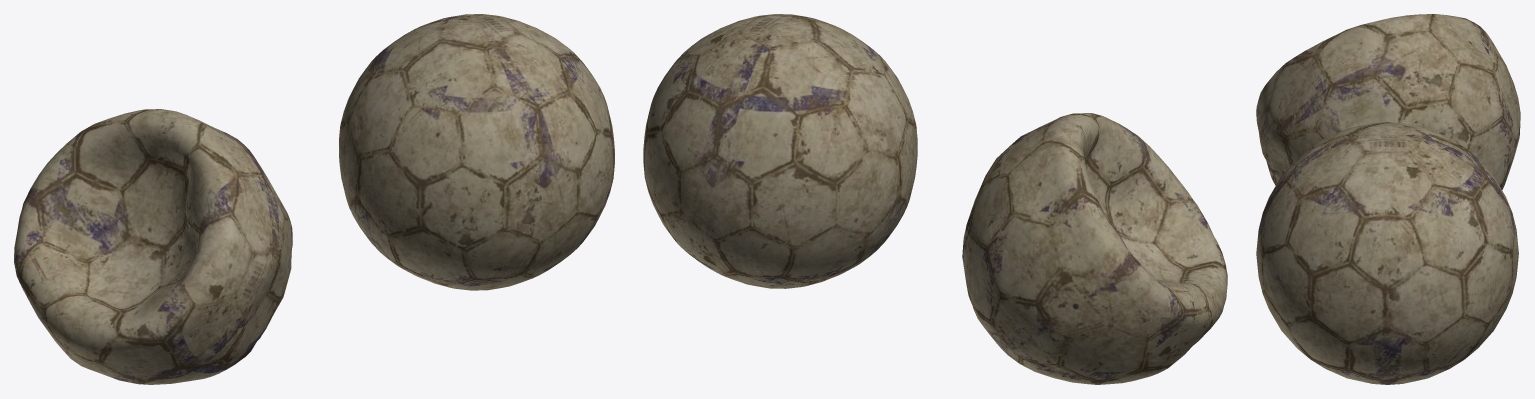
Rendered from football.glb.
3 renders of one model, left to right at view 1: azimuth 30°, elevation 25°; view 2: azimuth 150°, elevation 25°; view 3: azimuth 270°, elevation 25°, orthographic. The views are drawn at different scales.
Parts seen in each view (by area): view 1: football_inflated, football_deflated; view 2: football_inflated, football_deflated; view 3: football_inflated, football_deflated.
Part boxes in pixels (bbox=[...]): football_inflated: bbox=[339, 14, 614, 290]; football_deflated: bbox=[14, 109, 292, 384]; football_inflated: bbox=[643, 14, 917, 288]; football_deflated: bbox=[962, 113, 1227, 384]; football_inflated: bbox=[1256, 122, 1518, 384]; football_deflated: bbox=[1256, 14, 1520, 189].
Bounding box in the file's own units: 0.5089 × 0.2219 × 0.2222.
1 material, 1 textured.
